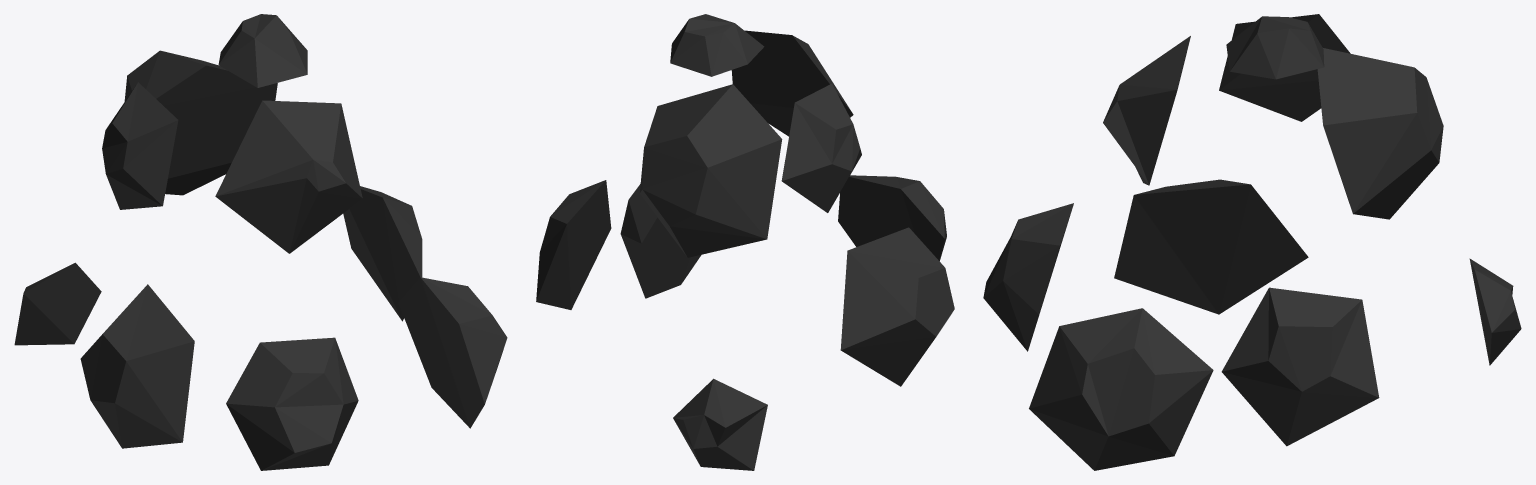
Rendered from CoalOreB.fbx.
The picture shows the model from 3 angles, left to right: view 1: azimuth 30°, elevation 25°; view 2: azimuth 150°, elevation 25°; view 3: azimuth 270°, elevation 25°; orthographic projection. The views are drawn at different scales.
Visible parts, largest first — view 1: CoalOreB; view 2: CoalOreB; view 3: CoalOreB.
Part boxes in pixels (<box>): CoalOreB: <box>14,14,507,470</box>; CoalOreB: <box>536,14,954,470</box>; CoalOreB: <box>983,14,1521,470</box>.
Bounding box in the file's own units: 40.38 × 39.77 × 49.42.
